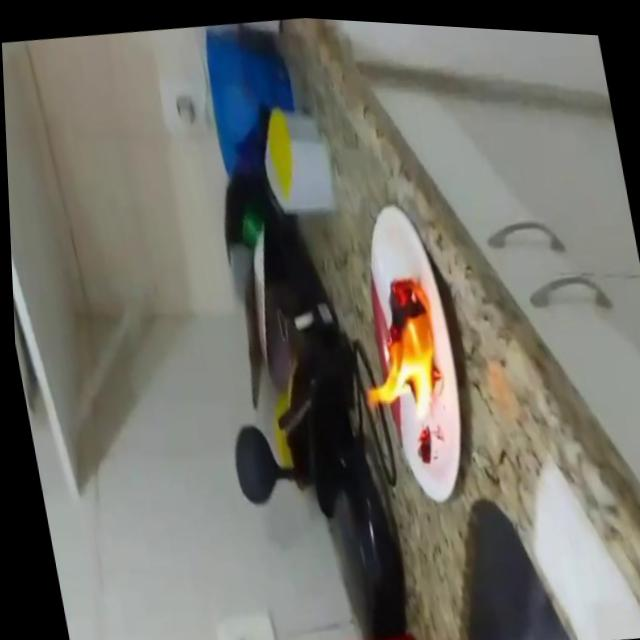Fire: (341, 259, 450, 426)
